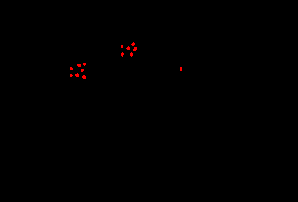Target: (131, 42, 135, 46), (126, 46, 130, 50), (133, 47, 137, 51), (75, 73, 79, 77), (82, 75, 86, 79), (121, 52, 124, 57), (130, 52, 133, 57), (77, 64, 81, 67), (83, 63, 86, 66), (70, 67, 73, 70), (81, 69, 84, 72), (70, 74, 73, 77), (180, 67, 182, 71), (121, 45, 123, 48)
